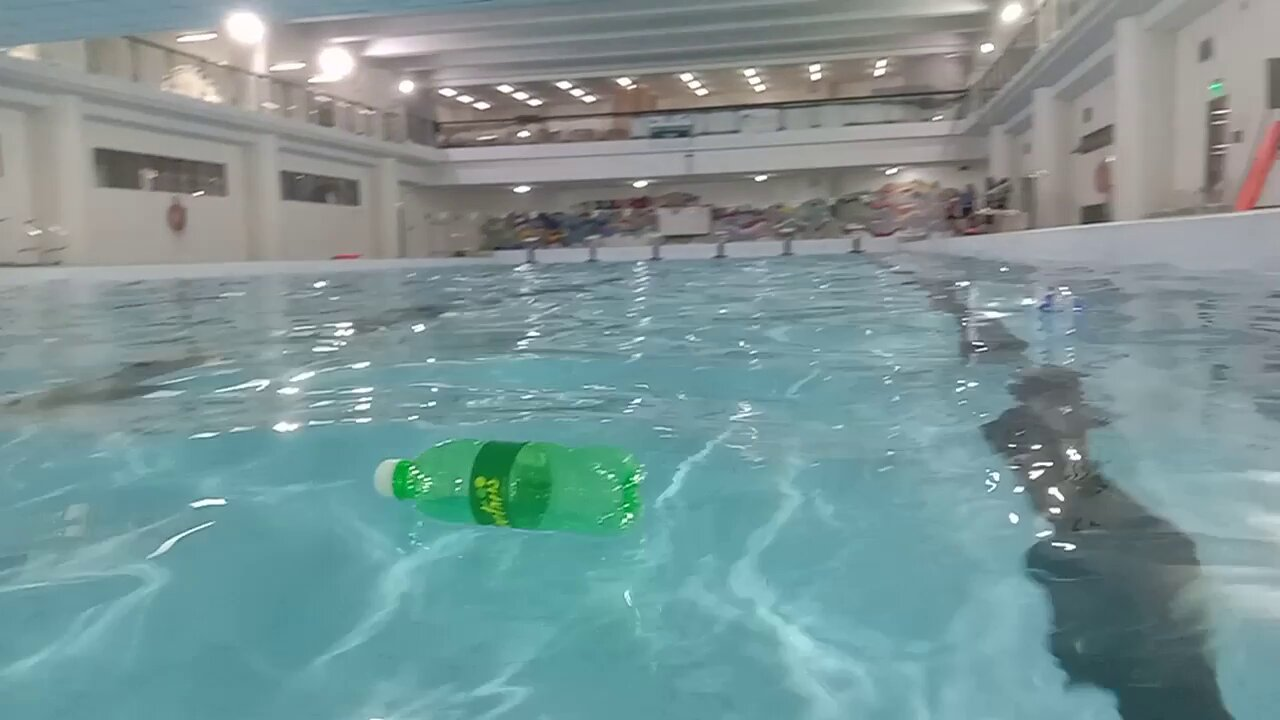plastic_bottle: (372, 437, 641, 528), (963, 276, 1091, 316)
